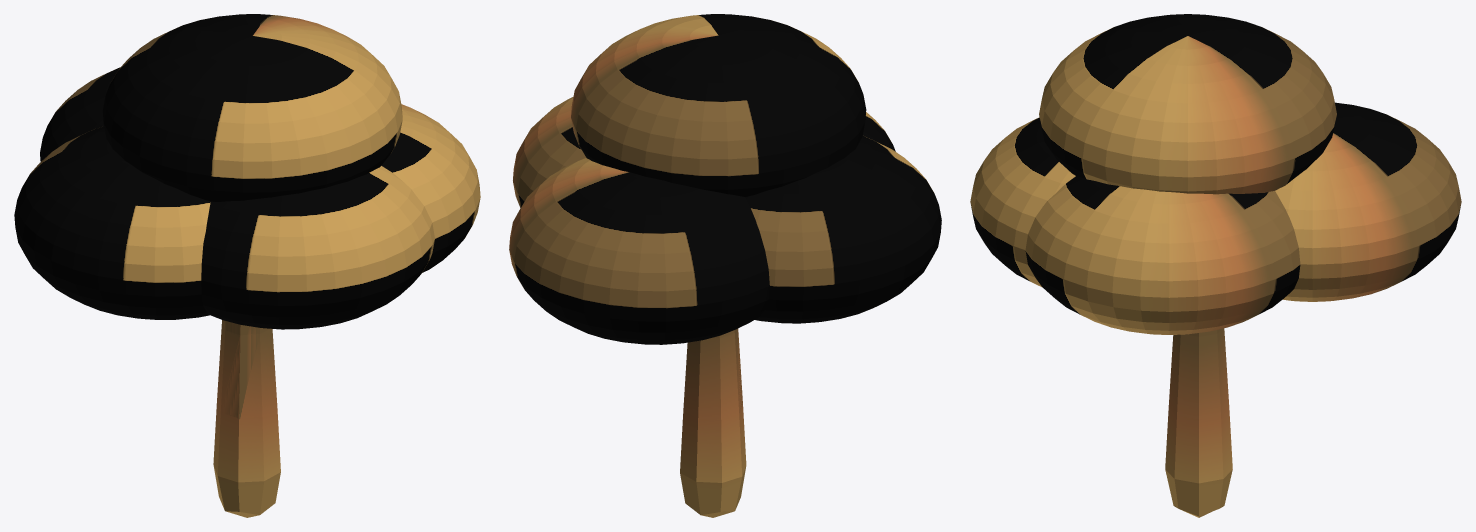
The model's file is Arbol7.fbx.
3 renders of one model, left to right at view 1: azimuth 30°, elevation 25°; view 2: azimuth 150°, elevation 25°; view 3: azimuth 270°, elevation 25°, orthographic.
Parts seen in each view (by area): view 1: Cube.001; view 2: Cube.001; view 3: Cube.001.
Boxes of the visible parts, x1=… form: Cube.001: x1=14, y1=14, x2=480, y2=517; Cube.001: x1=509, y1=14, x2=941, y2=517; Cube.001: x1=970, y1=14, x2=1461, y2=517.
Bounding box in the file's own units: 810 × 915 × 845.
2 materials, 2 textured.
